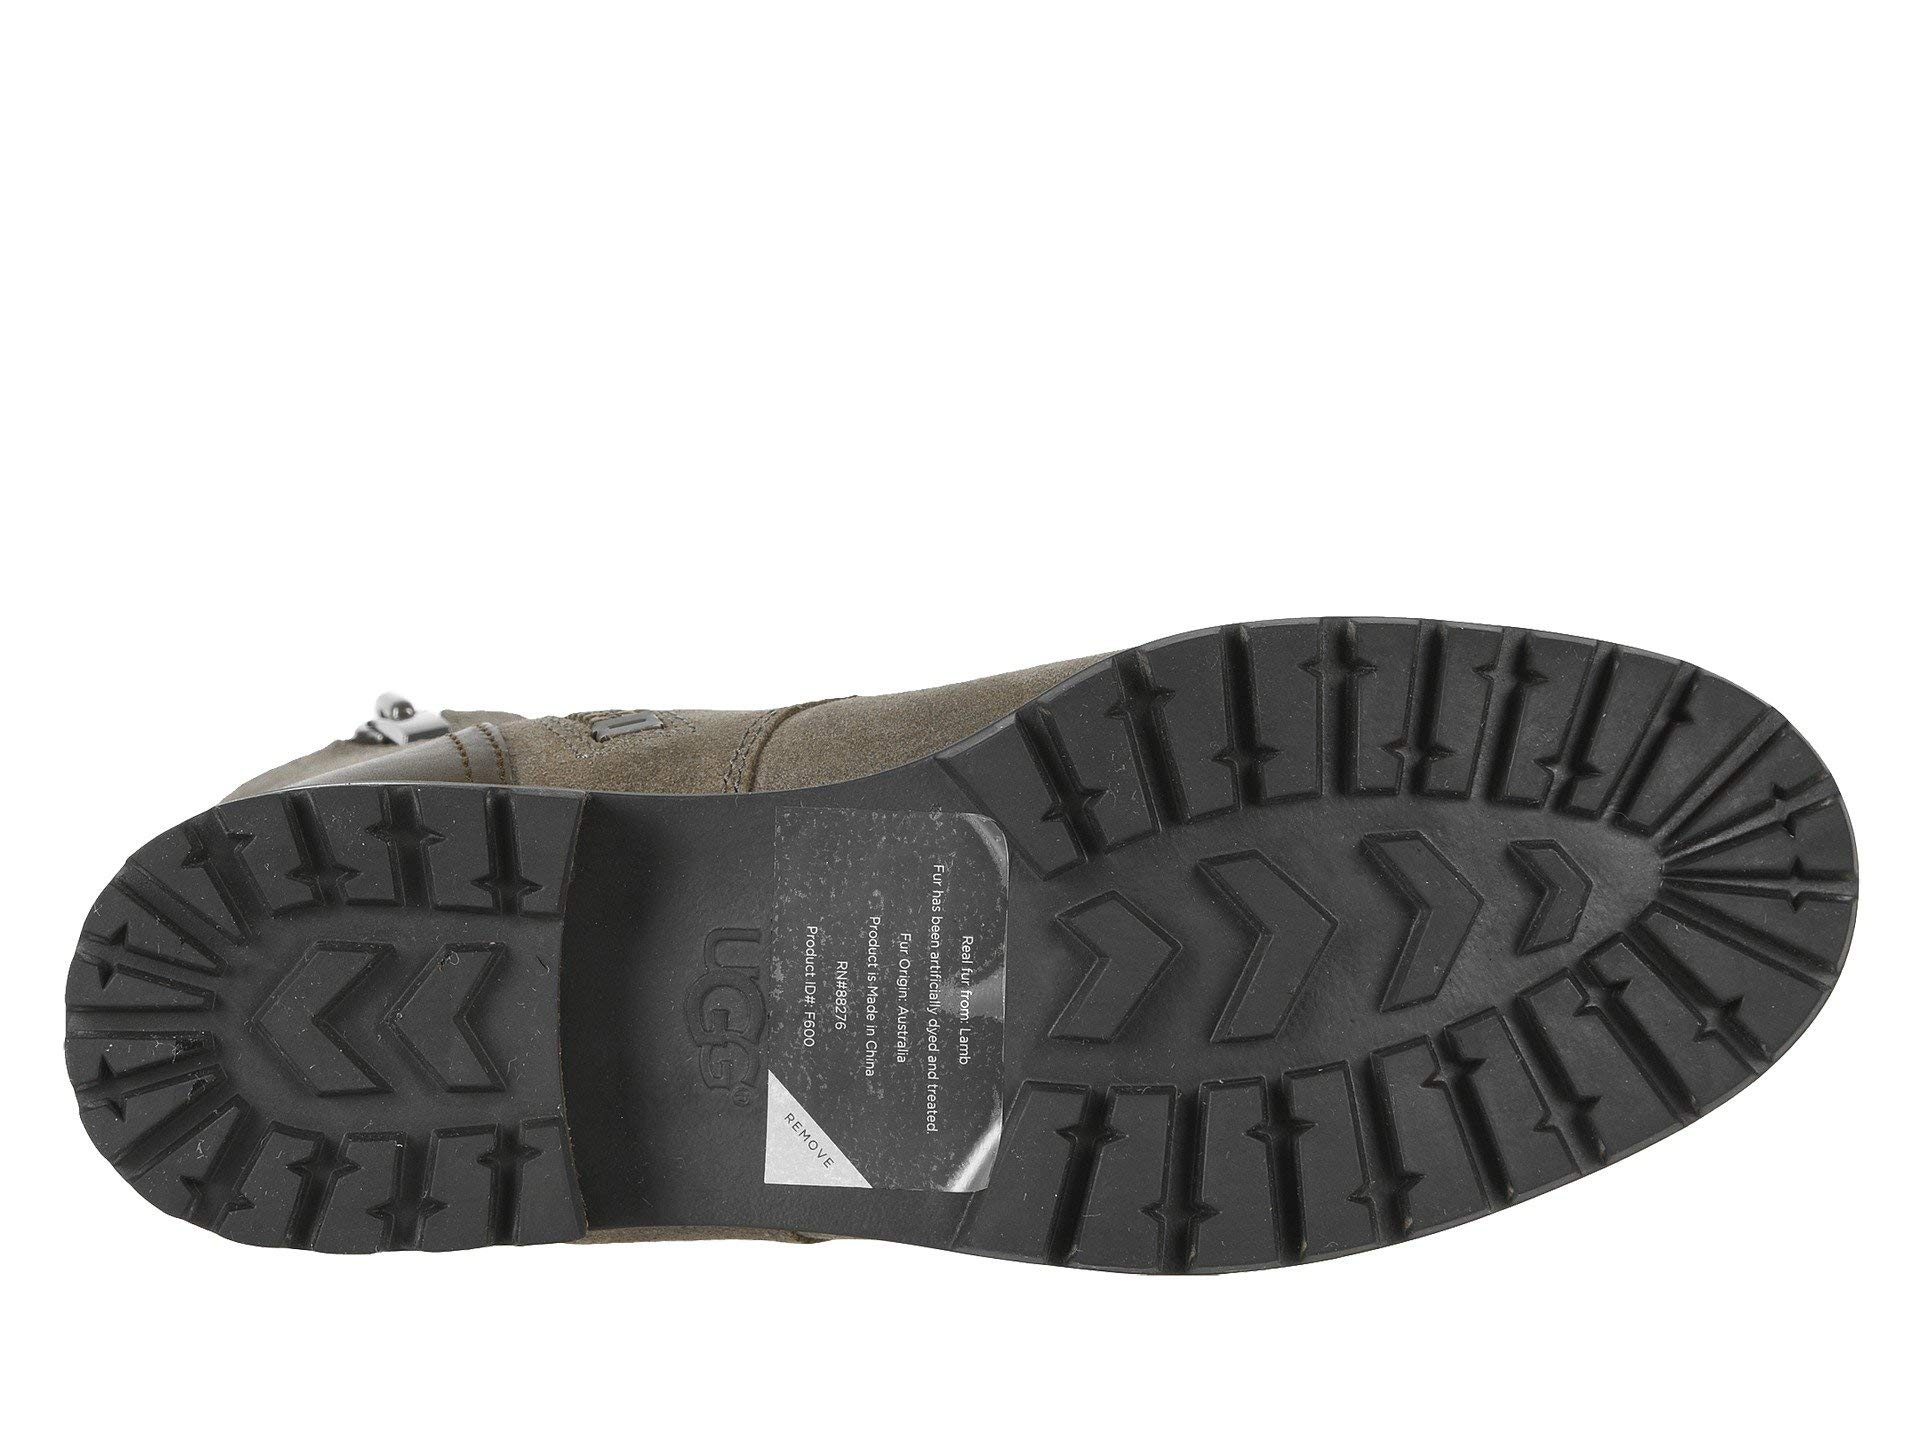chevron: (1048, 750, 1593, 1221), (259, 902, 553, 1171)
